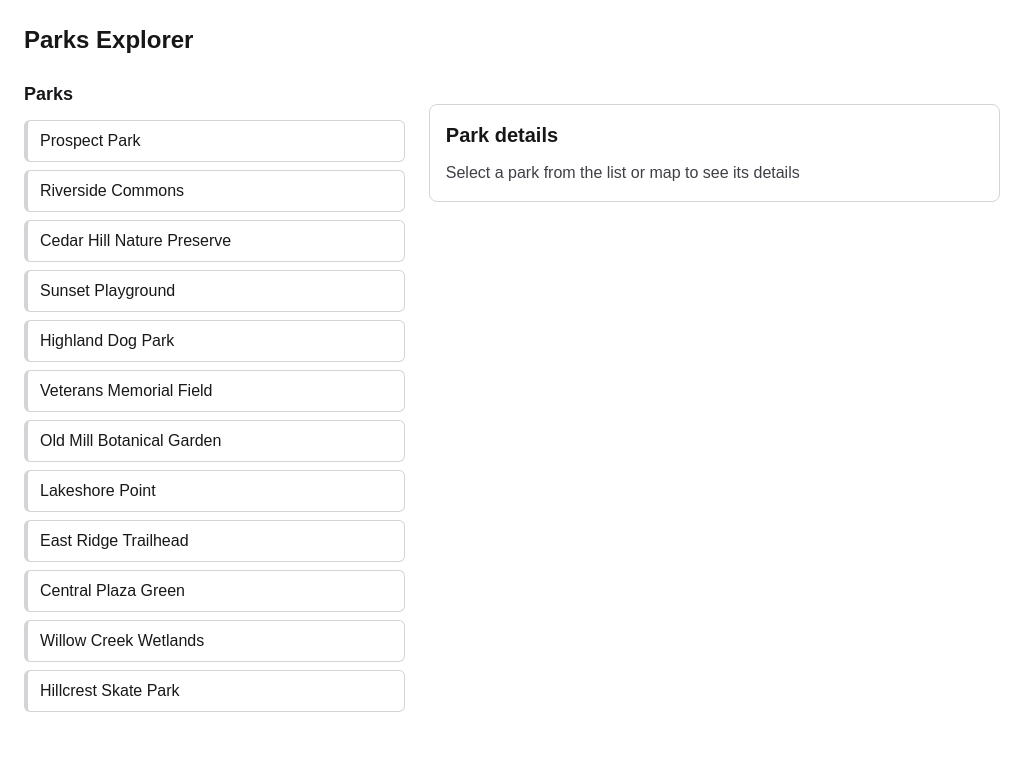
[DES-001][AC-001] list, nothing selected, and details › [TEST-032][AC-001][DES-001][TASK-014] activating Riverside Commons shows that park's details and marks only it as current
The image size is (1024, 768).
Click the button "Riverside Commons": coordinates (112, 190) x1=24 y1=170 x2=405 y2=212
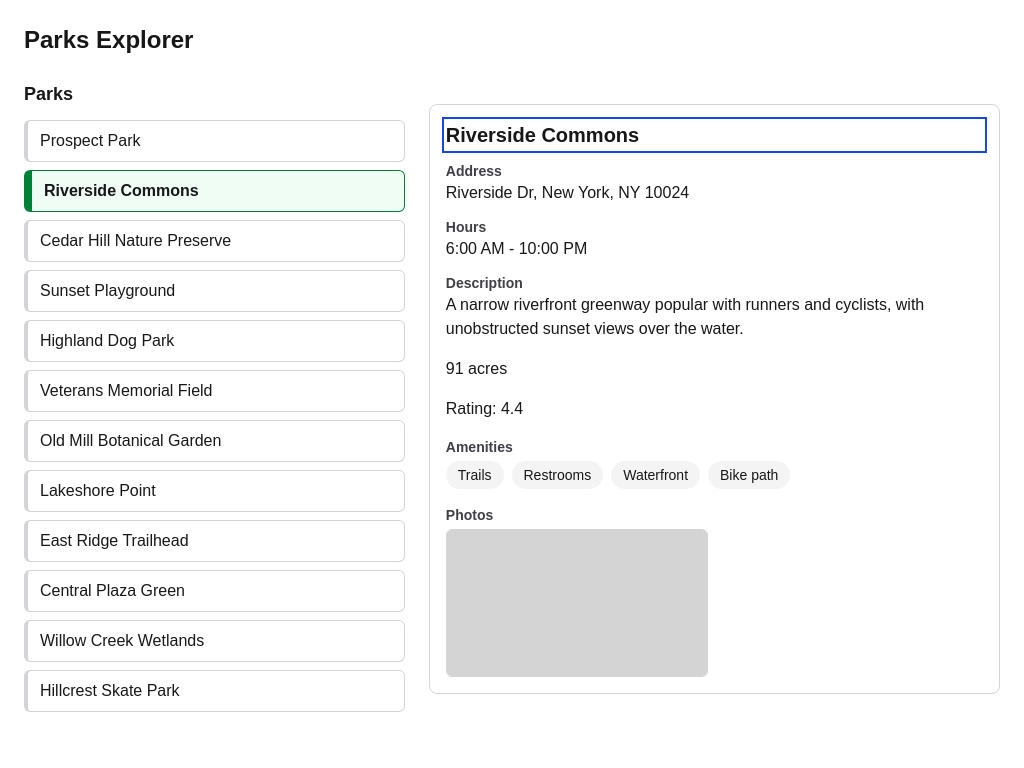
Now the heading "Riverside Commons" is shown, box x1=446 y1=124 x2=639 y2=146
Now the element "Riverside Commons" is shown, box x1=429 y1=104 x2=1000 y2=694
Now the text "Select a park from the list or map to see its details" is gone
